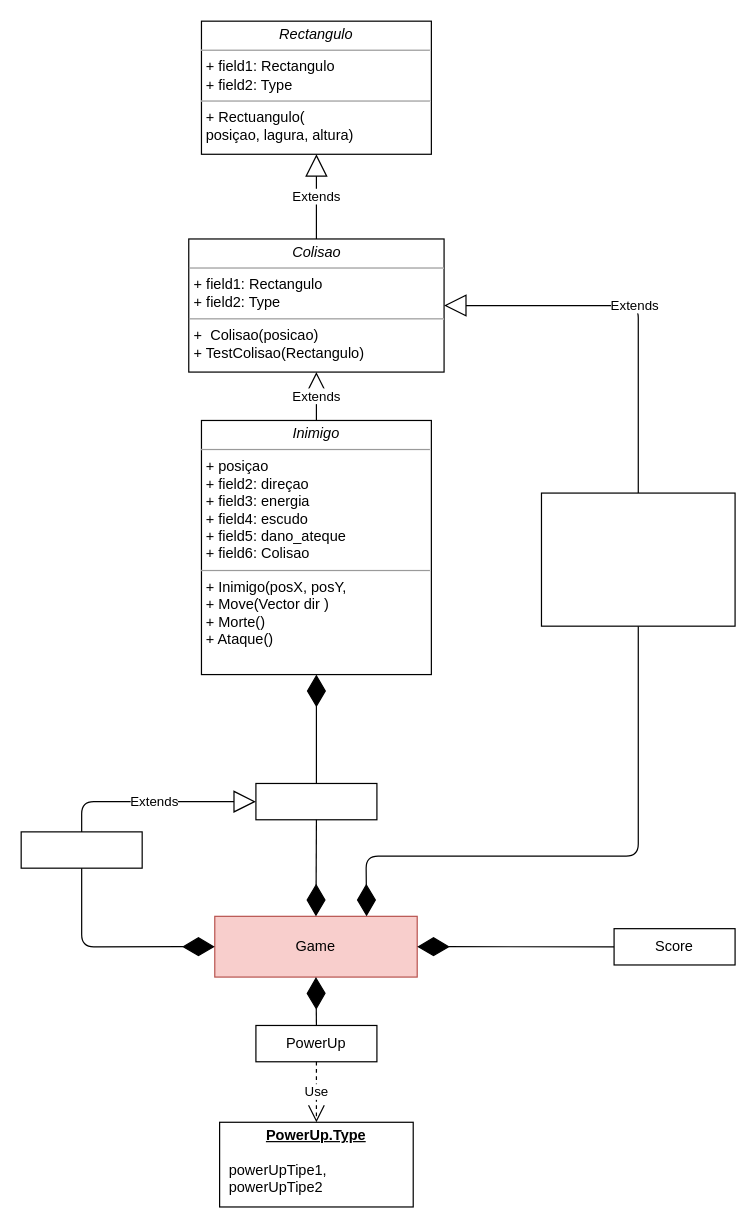
This 756x1228 diagram has some shape labels left out. Each missing label, with the centre of its shape:
Boss Ship: [81,849]
LaserBean + Colisao + Dano + Direçao + LaserBean(dir, dmg): [637,559]
SpaceShip: [316,801]
